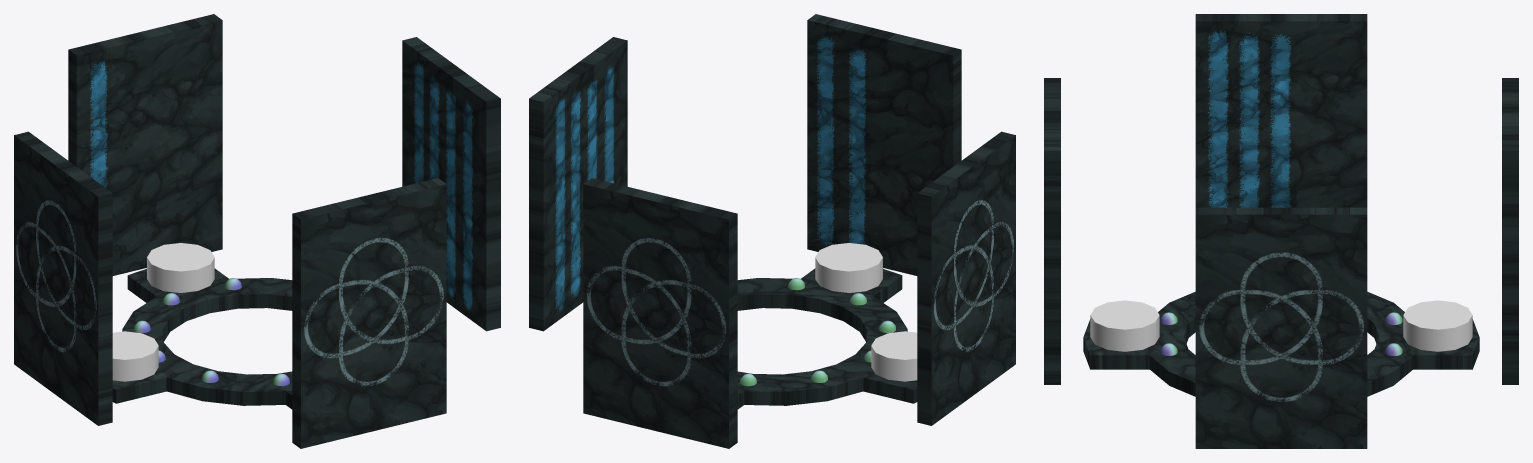
Rendered from Ordered portal.FBX.
3 views of the same model, side by side, from view 1: azimuth 30°, elevation 25°; view 2: azimuth 150°, elevation 25°; view 3: azimuth 270°, elevation 25° (orthographic). The views are drawn at different scales.
Parts seen in each view (by area): view 1: Cylinder001, Cylinder003, Cylinder004, Object001; view 2: Cylinder001, Cylinder005, Cylinder004, Object001; view 3: Cylinder001, Cylinder003, Cylinder005, Object001.
Boxes of the visible parts, bbox=[...] form: Cylinder001: bbox=[14, 14, 500, 448]; Cylinder003: bbox=[147, 243, 214, 292]; Cylinder004: bbox=[112, 331, 158, 381]; Object001: bbox=[133, 278, 289, 386]; Cylinder001: bbox=[529, 14, 1015, 448]; Cylinder005: bbox=[815, 243, 882, 292]; Cylinder004: bbox=[871, 331, 917, 381]; Object001: bbox=[740, 278, 895, 386]; Cylinder001: bbox=[1044, 14, 1518, 448]; Cylinder003: bbox=[1403, 300, 1472, 351]; Cylinder005: bbox=[1090, 300, 1159, 351]; Object001: bbox=[1160, 312, 1402, 355].
Bounding box in the file's own units: 194 × 107 × 194.
